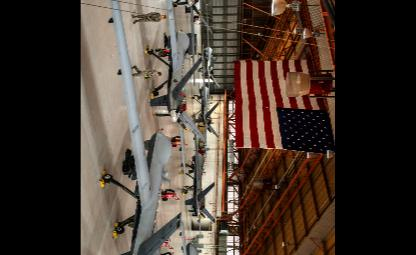MQ9: (101, 0, 192, 254), (146, 0, 207, 180), (184, 111, 215, 236), (170, 0, 214, 87), (192, 43, 219, 158), (198, 3, 221, 110), (167, 218, 211, 254), (183, 0, 217, 35)
